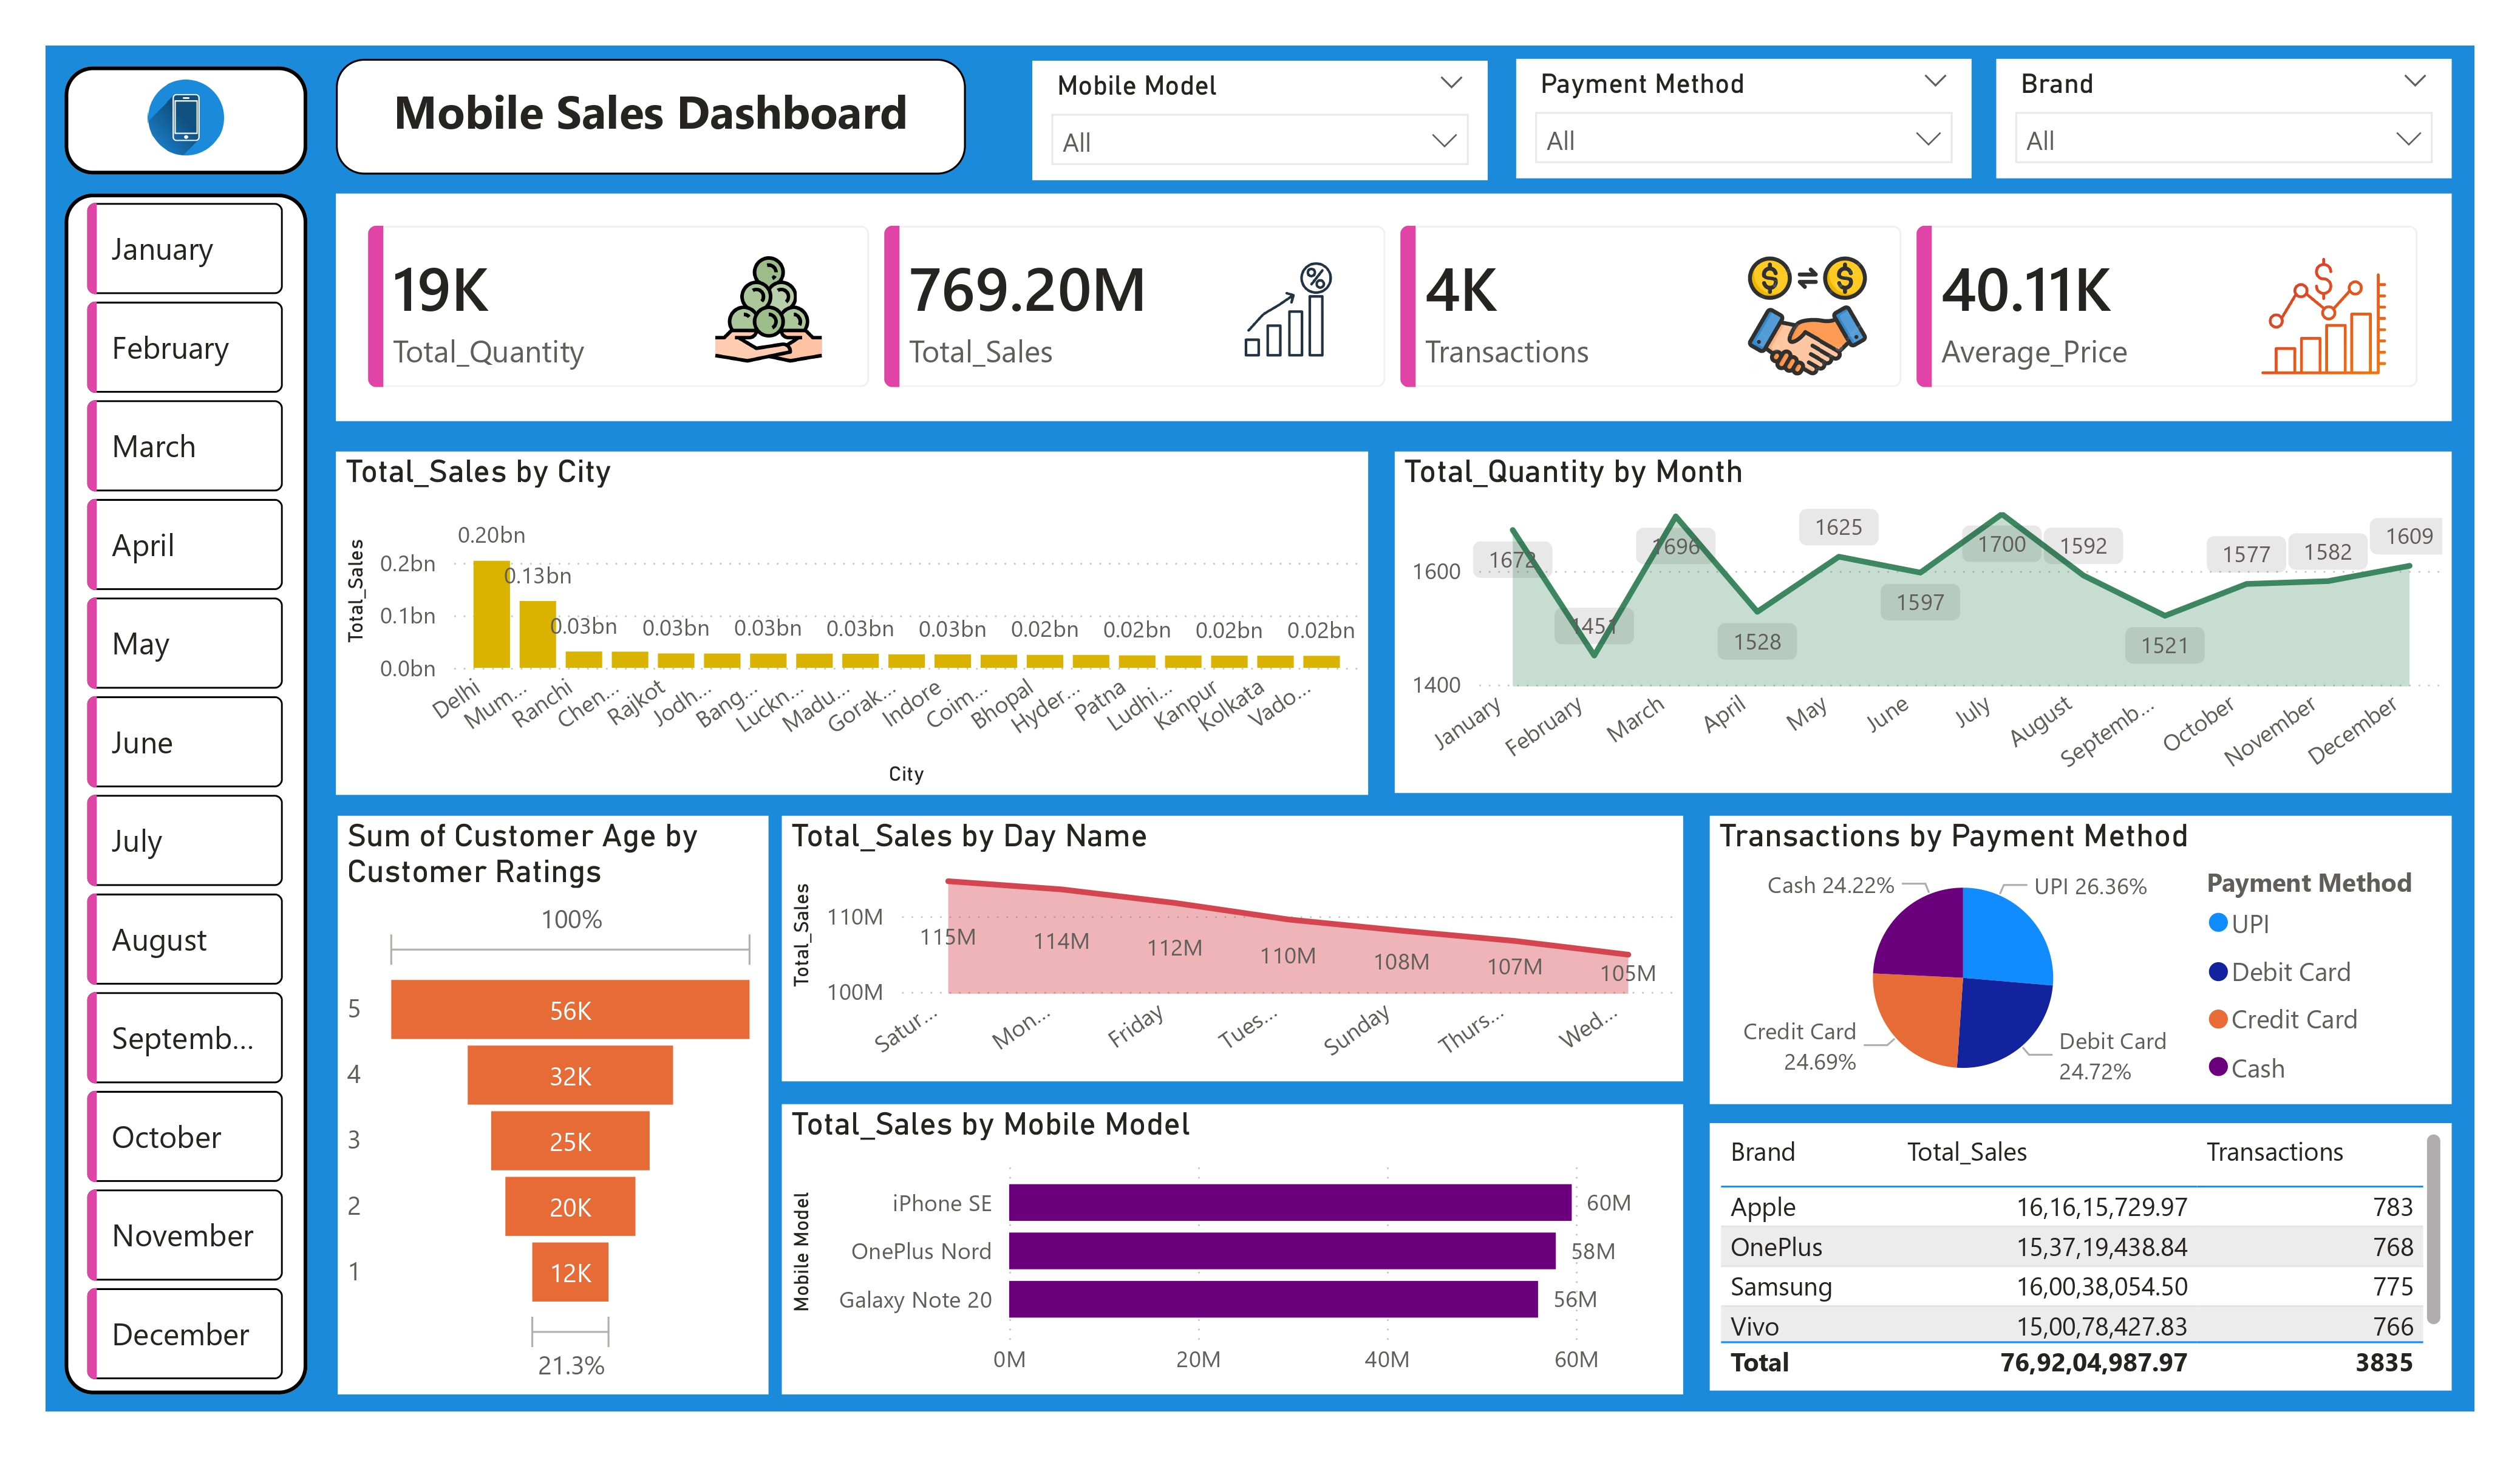

What the dashboard file says about the page in this screenshot:
{"tool":"powerbi","page":{"name":"Dashboard","canvas":[1280,720],"ordinal":0},"visuals":[{"type":"shape","box":[9.7,10.9,127.9,56.7],"z":0},{"type":"image","box":[53.1,15.7,42.2,43.4],"z":1000},{"type":"shape","box":[9.7,78.4,127.9,632.2],"z":2000},{"type":"advancedSlicerVisual","fields":{"Values":["Custom_Calender.Date.Variation.Date Hierarchy.Month"]},"box":[16.9,78.4,113.4,632.2],"z":3000},{"type":"cardVisual","fields":{"Data":["Mobile_Sales_Data.Total_Quantity","Mobile_Sales_Data.Total_Sales","Mobile_Sales_Data.Transactions","Mobile_Sales_Data.Average_Price"]},"box":[153.2,78.4,1114.8,119.4],"z":4000},{"type":"textbox","box":[153.2,7.2,331.8,60.3],"z":5000},{"type":"image","box":[612.9,102.5,84.5,72.4],"z":6000},{"type":"image","box":[339,108.6,84.5,60.3],"z":7000},{"type":"image","box":[886.7,108.6,82,67.6],"z":8000},{"type":"image","box":[1152.2,106.2,96.5,72.4],"z":9000},{"type":"slicer","fields":{"Values":["Mobile_Sales_Data.Mobile Model"]},"box":[520,8.4,240.1,62.7],"z":10000},{"type":"slicer","fields":{"Values":["Mobile_Sales_Data.Payment Method"]},"box":[774.5,7.2,240.1,62.7],"z":11000},{"type":"slicer","fields":{"Values":["Mobile_Sales_Data.Brand"]},"box":[1027.9,7.2,240.1,62.7],"z":12000},{"type":"clusteredColumnChart","fields":{"Category":["Mobile_Sales_Data.City"],"Y":["Mobile_Sales_Data.Total_Sales"]},"box":[153.2,213.5,544.1,181],"z":13000},{"type":"lineChart","fields":{"Y":["Mobile_Sales_Data.Total_Quantity"],"Category":["Custom_Calender.Date.Variation.Date Hierarchy.Month"]},"box":[710.8,214.1,557.1,179.8],"z":14000},{"type":"funnel","fields":{"Category":["Mobile_Sales_Data.Customer Ratings"],"Y":["Sum(Mobile_Sales_Data.Customer Age)"]},"box":[153.7,406.2,227.8,304.6],"z":15000},{"type":"pieChart","fields":{"Y":["Mobile_Sales_Data.Transactions"],"Category":["Mobile_Sales_Data.Payment Method"]},"box":[876.8,406.2,391.1,152.3],"z":16000},{"type":"clusteredBarChart","fields":{"Category":["Mobile_Sales_Data.Mobile Model"],"Y":["Mobile_Sales_Data.Total_Sales"]},"box":[388.3,558.5,474.8,152.3],"z":17000},{"type":"stackedAreaChart","fields":{"Y":["Mobile_Sales_Data.Total_Sales"],"Category":["Custom_Calender.Day Name"]},"box":[388.3,406.2,474.8,140],"z":18000},{"type":"tableEx","fields":{"Values":["Mobile_Sales_Data.Brand","Mobile_Sales_Data.Total_Sales","Mobile_Sales_Data.Transactions"]},"box":[876.8,568.1,391.1,141.3],"z":19000}]}

Visuals, with their boxes in screenshot pixels (x1, y1, x2, y2):
shape: pyautogui.locateOnScreen(64, 66, 307, 174)
image: pyautogui.locateOnScreen(146, 75, 226, 158)
shape: pyautogui.locateOnScreen(64, 194, 307, 1394)
advancedSlicerVisual - Custom_Calender.Date.Variation.Date Hierarchy.Month: pyautogui.locateOnScreen(78, 194, 293, 1394)
cardVisual - Mobile_Sales_Data.Total_Quantity x Mobile_Sales_Data.Total_Sales: pyautogui.locateOnScreen(336, 194, 2452, 421)
textbox: pyautogui.locateOnScreen(336, 59, 966, 174)
image: pyautogui.locateOnScreen(1208, 240, 1369, 378)
image: pyautogui.locateOnScreen(689, 251, 849, 366)
image: pyautogui.locateOnScreen(1728, 251, 1884, 380)
image: pyautogui.locateOnScreen(2232, 247, 2415, 384)
slicer - Mobile_Sales_Data.Mobile Model: pyautogui.locateOnScreen(1032, 61, 1488, 180)
slicer - Mobile_Sales_Data.Payment Method: pyautogui.locateOnScreen(1515, 59, 1971, 178)
slicer - Mobile_Sales_Data.Brand: pyautogui.locateOnScreen(1996, 59, 2452, 178)
clusteredColumnChart - Mobile_Sales_Data.City x Mobile_Sales_Data.Total_Sales: pyautogui.locateOnScreen(336, 450, 1369, 794)
lineChart - Mobile_Sales_Data.Total_Quantity x Custom_Calender.Date.Variation.Date Hierarchy.Month: pyautogui.locateOnScreen(1394, 452, 2451, 793)
funnel - Mobile_Sales_Data.Customer Ratings x Sum(Mobile_Sales_Data.Customer Age): pyautogui.locateOnScreen(337, 816, 769, 1394)
pieChart - Mobile_Sales_Data.Transactions x Mobile_Sales_Data.Payment Method: pyautogui.locateOnScreen(1709, 816, 2451, 1105)
clusteredBarChart - Mobile_Sales_Data.Mobile Model x Mobile_Sales_Data.Total_Sales: pyautogui.locateOnScreen(782, 1105, 1683, 1394)
stackedAreaChart - Mobile_Sales_Data.Total_Sales x Custom_Calender.Day Name: pyautogui.locateOnScreen(782, 816, 1683, 1082)
tableEx - Mobile_Sales_Data.Brand x Mobile_Sales_Data.Total_Sales: pyautogui.locateOnScreen(1709, 1123, 2451, 1391)
